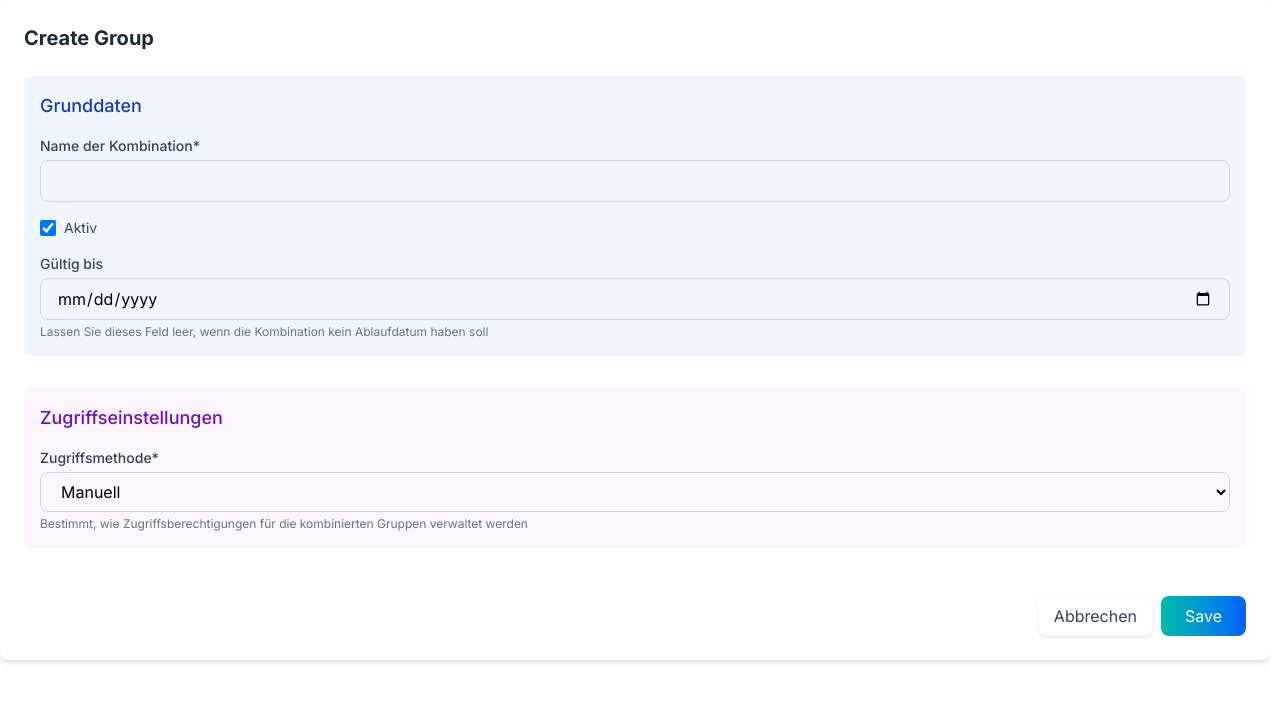
Test: CombinedGroupForm › validates required name field
Click the button "Save": (1204, 616) top-left (1161, 596), bottom-right (1246, 636)
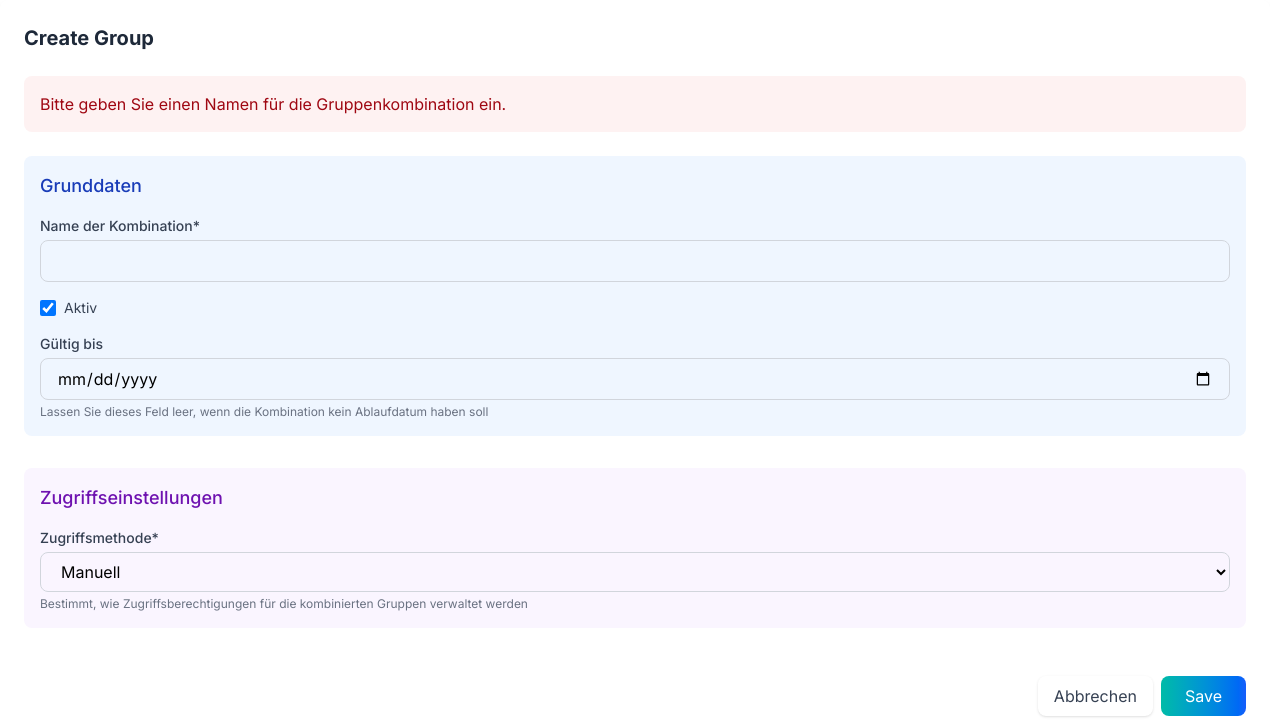
Now the text "Bitte geben Sie einen Namen für die Gruppenkombination ein." is shown, box top-left (40, 94), bottom-right (506, 114)
